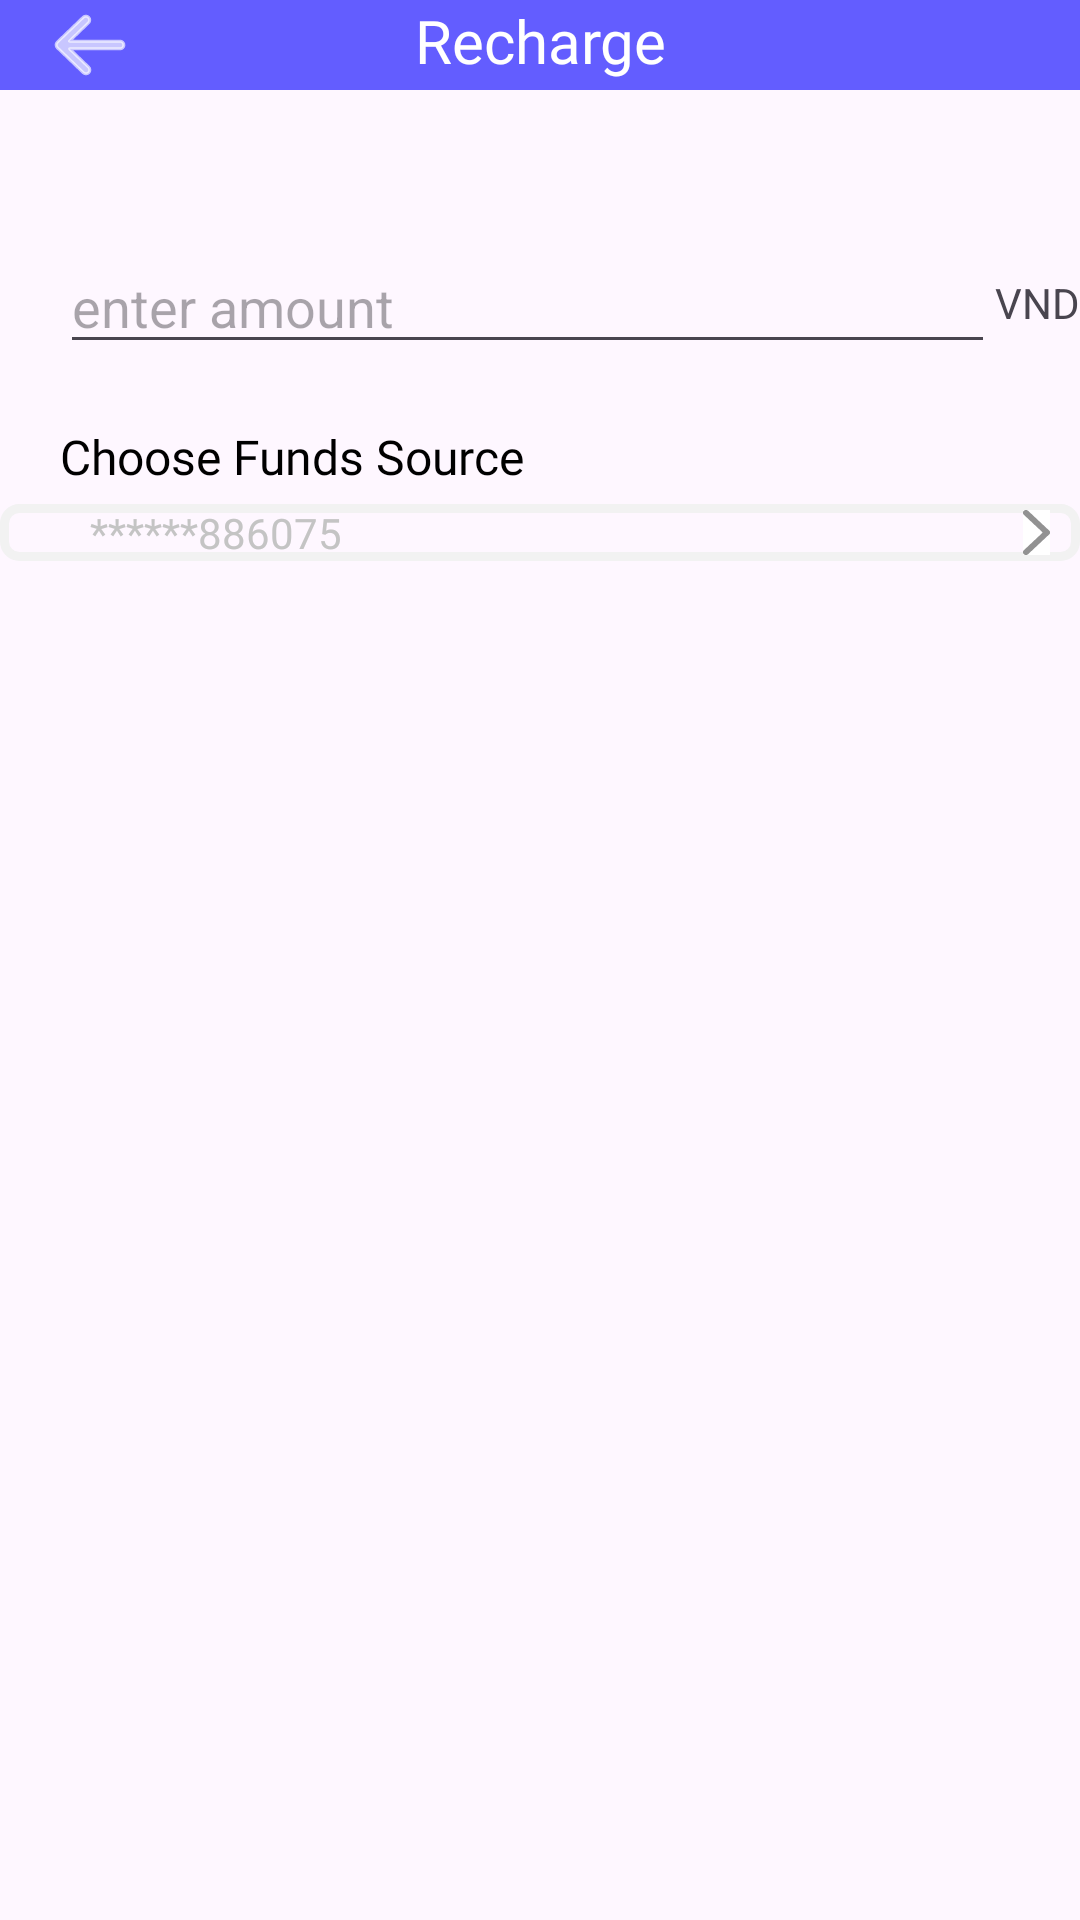

Icons on this 1080×1920 Android screen, each with the point to tap as (x,y):
back: (90,45)
right arrow: (1036,532)
